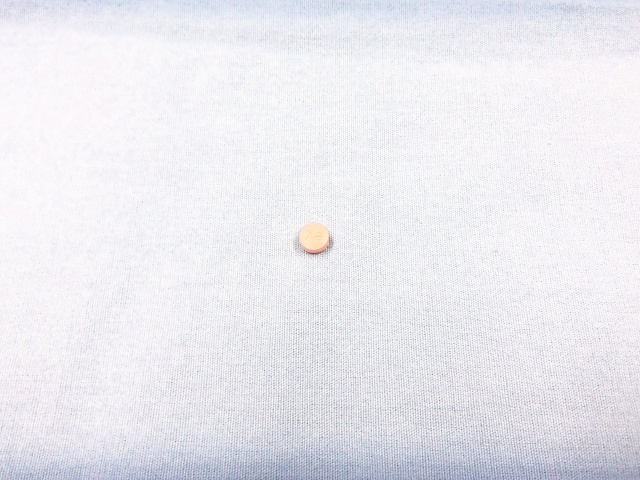X: (304, 228, 315, 240)
a: (314, 231, 323, 242)
